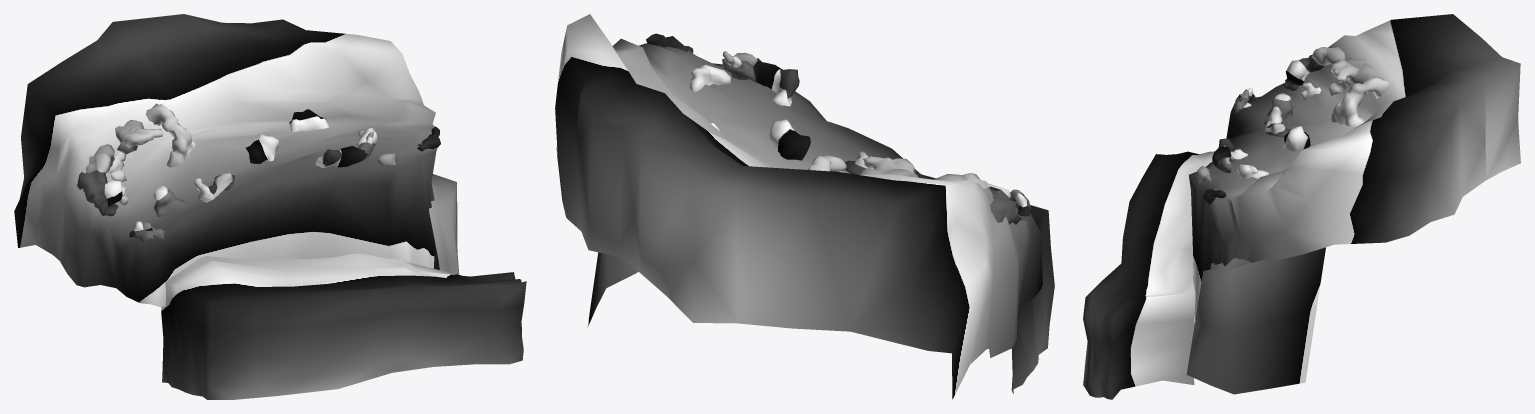
File: LEVEL 1 BLOCK FINAL2.fbx
The picture shows the model from 3 angles, left to right: view 1: azimuth 30°, elevation 25°; view 2: azimuth 150°, elevation 25°; view 3: azimuth 270°, elevation 25°; orthographic projection. The views are drawn at different scales.
Parts seen in each view (by area): view 1: level1 terrain APPLY, level2 terrain apply, level3 terrain aply, rock 12, rock 9, rock 10, ROCK 4, rock 7, rock 5, rock 8, Rock 1, rock 14; view 2: level1 terrain APPLY, level2 terrain apply, ROCK 4, level3 terrain aply, rock 12, rock 5, rock 10, rock 2, rock 9; view 3: level1 terrain APPLY, level2 terrain apply, level3 terrain aply, rock 9, rock 12, rock 10, ROCK 4, rock 5, rock 8, rock 7.
Boxes of the visible parts, <box> form: level1 terrain APPLY: <box>14,14,437,306</box>; level2 terrain apply: <box>161,253,526,399</box>; level3 terrain aply: <box>429,174,459,274</box>; rock 12: <box>77,144,122,216</box>; rock 9: <box>146,103,196,167</box>; rock 10: <box>115,119,162,154</box>; ROCK 4: <box>315,142,375,167</box>; rock 7: <box>152,185,190,216</box>; rock 5: <box>246,134,278,163</box>; rock 8: <box>194,172,234,202</box>; Rock 1: <box>289,109,328,132</box>; rock 14: <box>129,221,165,242</box>; level1 terrain APPLY: <box>555,14,1042,399</box>; level2 terrain apply: <box>921,174,1054,393</box>; ROCK 4: <box>723,60,799,106</box>; level3 terrain aply: <box>587,252,638,327</box>; rock 12: <box>934,172,1021,224</box>; rock 5: <box>769,119,810,160</box>; rock 10: <box>859,155,918,177</box>; rock 2: <box>690,65,730,92</box>; rock 9: <box>807,155,846,172</box>; level1 terrain APPLY: <box>1189,14,1520,318</box>; level2 terrain apply: <box>1083,151,1214,399</box>; level3 terrain aply: <box>1186,247,1325,394</box>; rock 9: <box>1331,76,1389,126</box>; rock 12: <box>1282,47,1344,90</box>; rock 10: <box>1331,58,1375,83</box>; ROCK 4: <box>1212,138,1248,172</box>; rock 5: <box>1282,126,1310,151</box>; rock 8: <box>1264,106,1290,137</box>; rock 7: <box>1264,93,1293,124</box>.
Size of the model in its own units: 11633 by 8246 by 12512.
